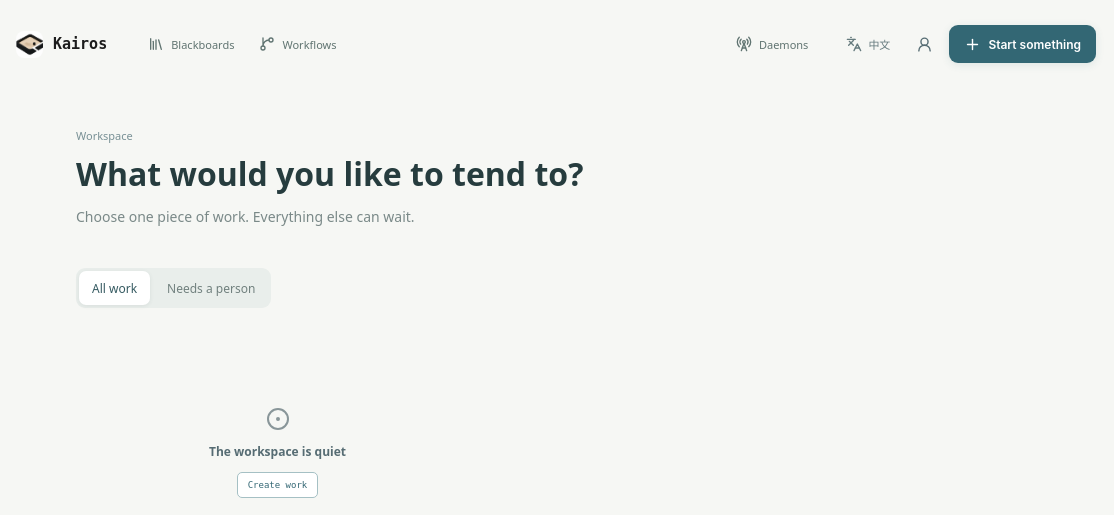
Test case: console authentication › uses the actor ID when an ordinary session has an admin-like ID and no display name
Click the button titled "Authenticated as: admin-ordinary-human". click: x=924, y=44
box: [907,27,941,61]
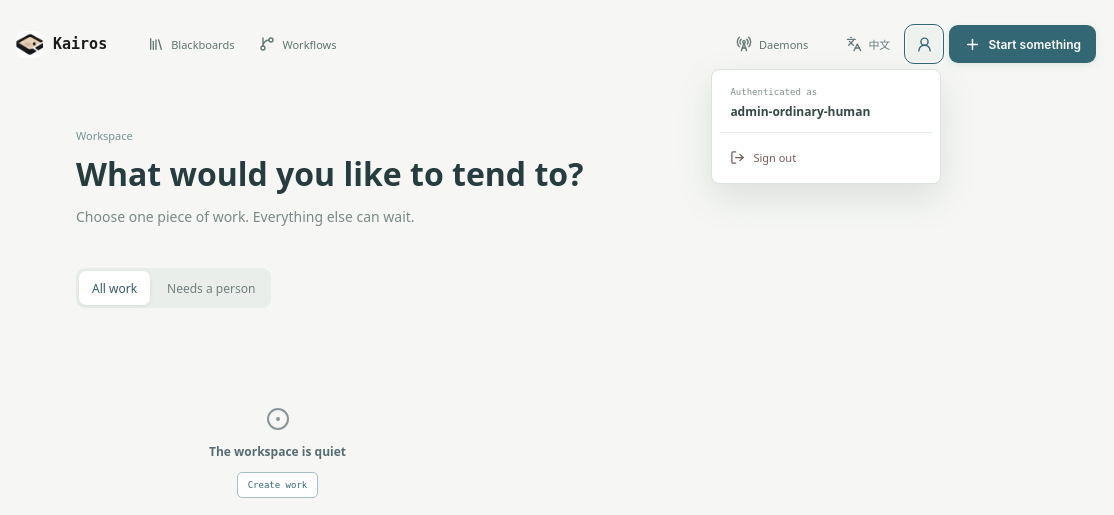
Expected: the text "admin-ordinary-human" is shown, [730,103,870,120]
